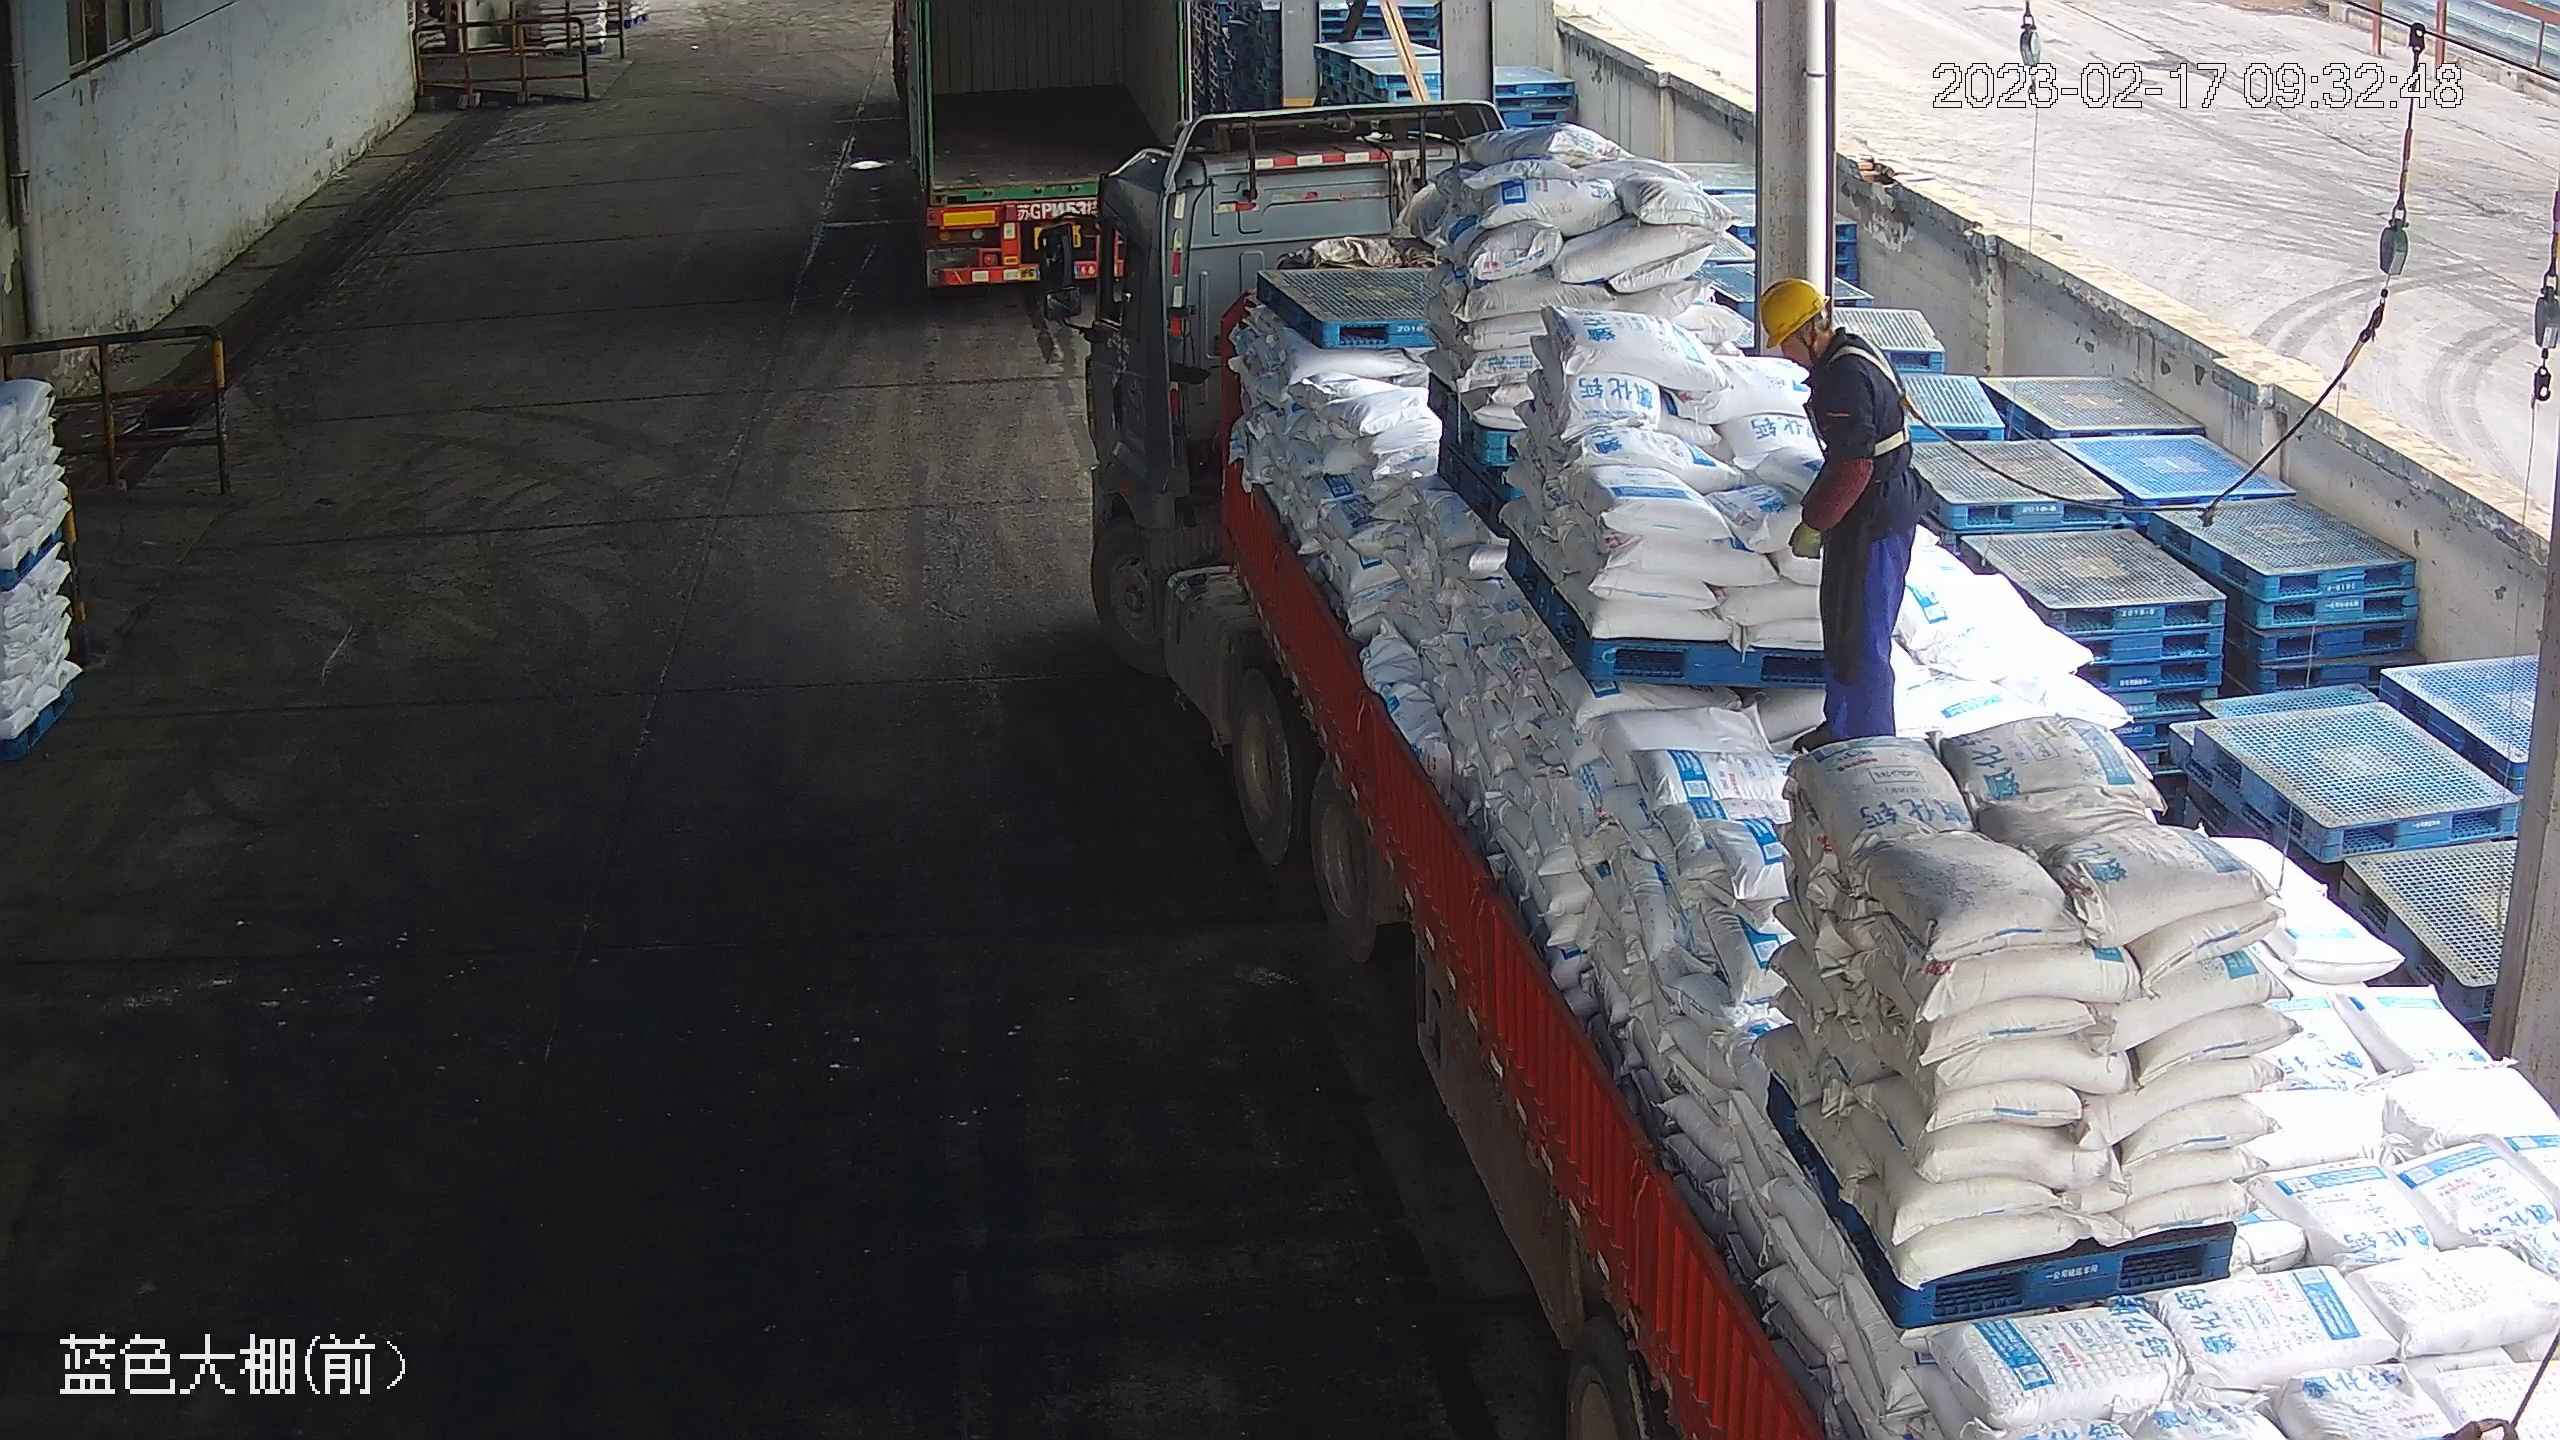belt: (1823, 336, 1926, 461)
head: (1755, 276, 1903, 410)
helmet: (1756, 276, 1829, 346)
people: (1765, 276, 1923, 746)
truck: (1044, 101, 2556, 1440), (884, 1, 1194, 294)
